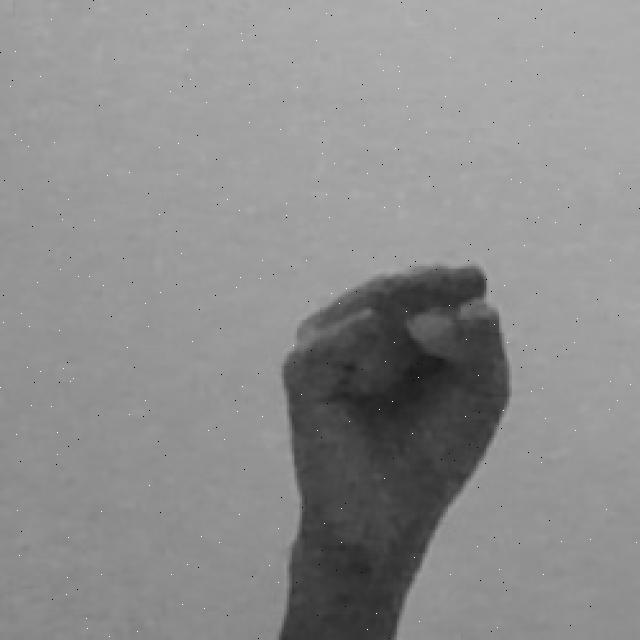S: (270, 243, 518, 640)
